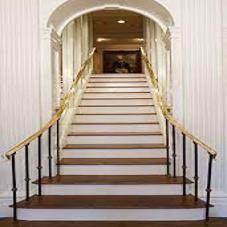Stair Up: (26, 73, 201, 221)
